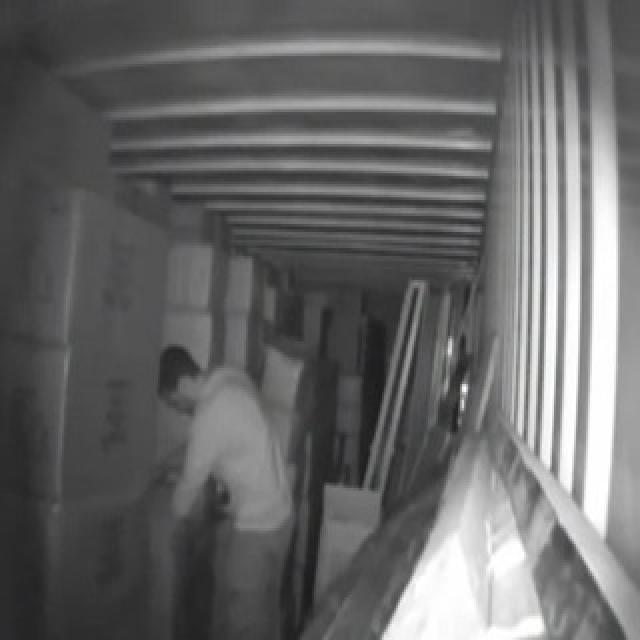thief: (130, 322, 288, 640)
